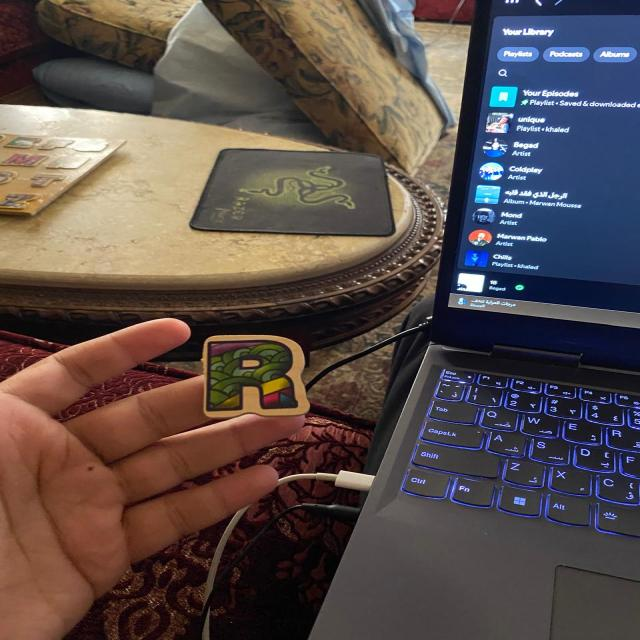R: (203, 335, 309, 418)
